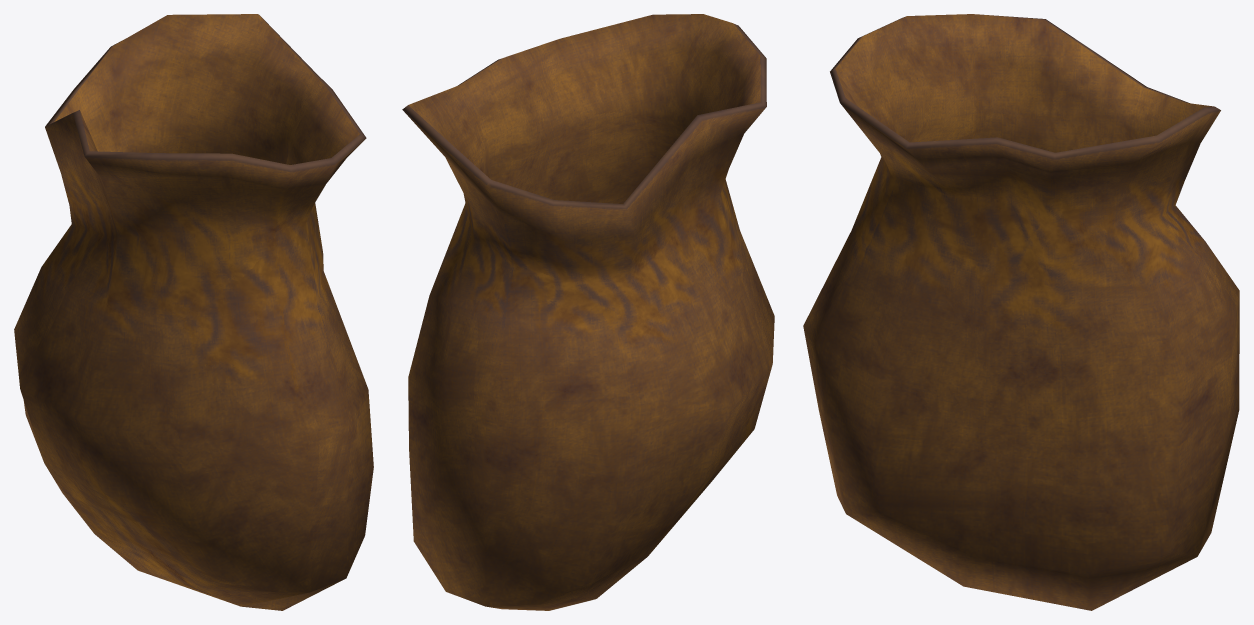
File: Sack.fbx
3 views of the same model, side by side, from view 1: azimuth 30°, elevation 25°; view 2: azimuth 150°, elevation 25°; view 3: azimuth 270°, elevation 25° (orthographic). The views are drawn at different scales.
Visible parts, largest first — view 1: Sack; view 2: Sack; view 3: Sack.
Boxes of the visible parts, x1,y1,x2,y2 form: Sack: [14, 14, 373, 610]; Sack: [402, 14, 774, 610]; Sack: [803, 14, 1239, 610].
Size of the model in its own units: 143 by 254 by 194.
